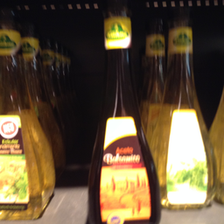vinegar: (86, 14, 165, 224), (158, 23, 223, 209), (1, 24, 50, 222)
